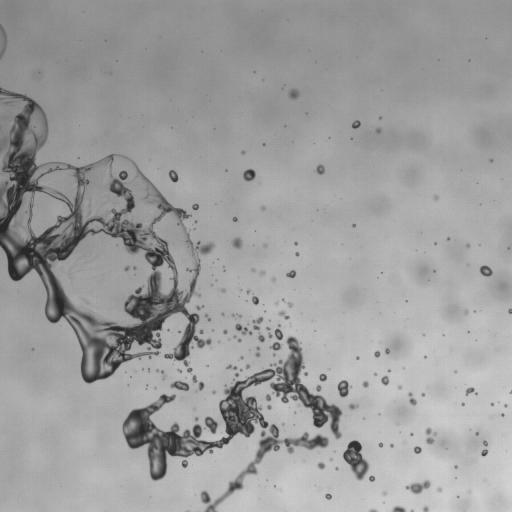droplet: (342, 440, 369, 480), (337, 380, 351, 397), (425, 428, 436, 444), (243, 169, 255, 181), (479, 265, 492, 276), (169, 170, 179, 182), (232, 237, 242, 248), (288, 89, 298, 99), (278, 310, 289, 319), (465, 387, 476, 395), (316, 164, 324, 174), (381, 376, 389, 385), (352, 120, 360, 128), (286, 270, 295, 277), (317, 462, 325, 469), (252, 295, 258, 304), (349, 403, 358, 409), (319, 374, 326, 381), (414, 446, 421, 453), (265, 394, 271, 401), (481, 449, 487, 456), (374, 351, 380, 357), (362, 381, 368, 387), (325, 493, 331, 499), (14, 220, 19, 227), (375, 128, 381, 133), (192, 204, 198, 209), (124, 265, 129, 271), (83, 299, 89, 304), (286, 302, 292, 307), (196, 305, 202, 310), (369, 475, 374, 481), (437, 487, 442, 492), (423, 506, 428, 511), (434, 195, 438, 200), (260, 271, 265, 275), (223, 329, 227, 334), (385, 349, 389, 354), (246, 364, 250, 369), (161, 371, 165, 376), (241, 150, 245, 154), (261, 206, 265, 210), (233, 217, 237, 221), (295, 252, 299, 256), (271, 277, 275, 281), (221, 288, 225, 292), (267, 405, 271, 409), (483, 441, 487, 445), (508, 308, 511, 313), (199, 330, 203, 333), (398, 385, 401, 389), (379, 443, 382, 447), (383, 491, 386, 495), (133, 266, 136, 269), (252, 268, 255, 271), (246, 290, 249, 293), (275, 301, 278, 304), (465, 310, 468, 313), (232, 313, 235, 316), (238, 314, 241, 317), (178, 369, 181, 372), (304, 372, 307, 375), (421, 393, 424, 396), (329, 458, 332, 461), (335, 467, 338, 470), (294, 242, 297, 244), (264, 244, 266, 247), (240, 356, 242, 359), (374, 372, 376, 375), (212, 391, 215, 393), (461, 403, 464, 405), (475, 433, 478, 435), (390, 444, 393, 446), (454, 466, 457, 468), (467, 244, 469, 246), (282, 299, 284, 301), (388, 369, 390, 371), (491, 403, 493, 405), (294, 411, 296, 413), (410, 433, 412, 435)
ligament: (0, 87, 214, 382), (122, 336, 340, 511), (266, 324, 282, 351), (405, 480, 430, 494), (253, 316, 264, 342), (170, 380, 189, 391), (0, 24, 6, 58), (235, 323, 252, 335), (192, 375, 204, 390), (226, 364, 239, 377), (408, 392, 416, 405), (391, 506, 406, 511), (255, 347, 260, 357), (234, 336, 241, 342), (206, 315, 210, 320), (368, 509, 378, 511), (410, 510, 414, 511), (510, 390, 511, 393)
